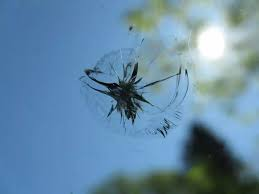bullseye: (60, 12, 201, 163)
